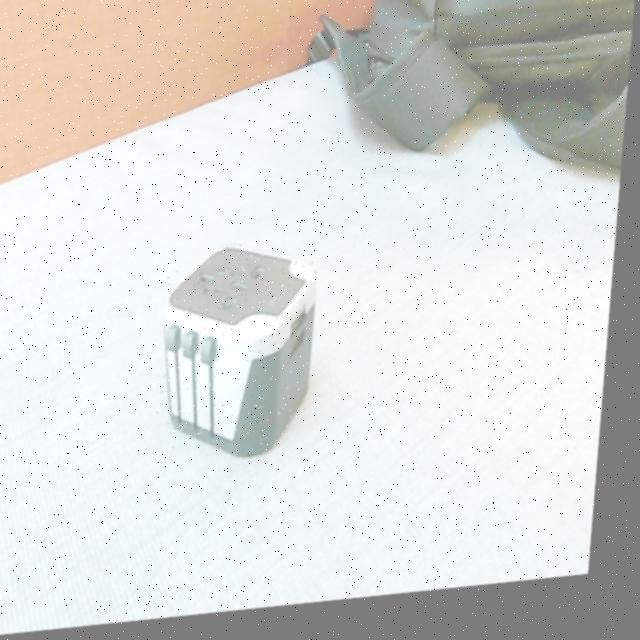adapter: (158, 242, 327, 471)
